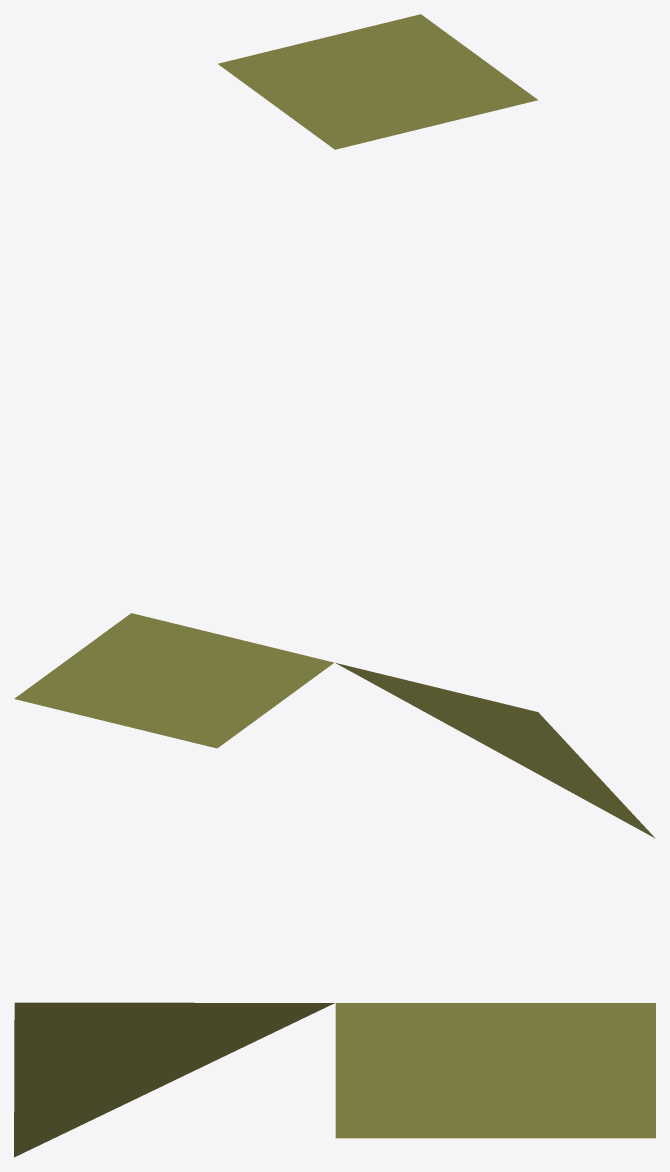
The model's file is hill.corner.inner.gltf.
3 renders of one model, top to bottom at view 1: azimuth 30°, elevation 25°; view 2: azimuth 150°, elevation 25°; view 3: azimuth 270°, elevation 25°, orthographic. The views are drawn at different scales.
Parts seen in each view (by area): view 1: hill.corner.inner; view 2: hill.corner.inner; view 3: hill.corner.inner.
Boxes of the visible parts, bbox=[...] form: hill.corner.inner: bbox=[218, 14, 537, 149]; hill.corner.inner: bbox=[14, 613, 655, 838]; hill.corner.inner: bbox=[14, 1002, 655, 1157].
Size of the model in its own units: 4 by 2 by 4.01.
